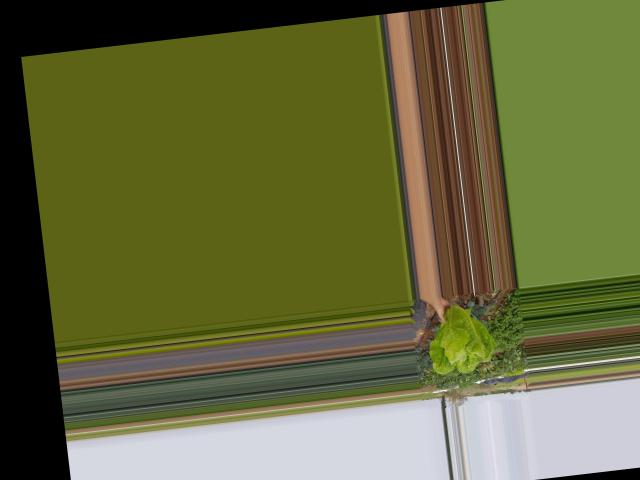lettuce: (420, 296, 499, 377)
